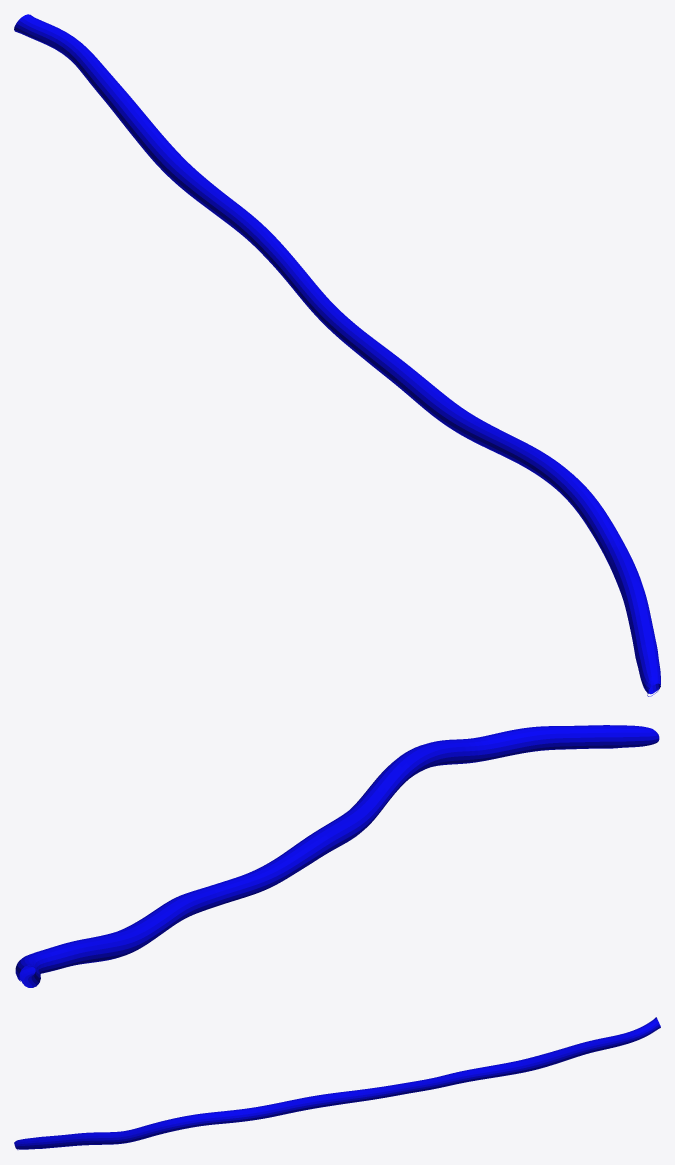
Rendered from frau2-704.glb.
3 views of the same model, one above another, from view 1: azimuth 30°, elevation 25°; view 2: azimuth 150°, elevation 25°; view 3: azimuth 270°, elevation 25° (orthographic). The views are drawn at different scales.
Parts seen in each view (by area): view 1: VH_F_inferior_ophthalmic_vein_L; view 2: VH_F_inferior_ophthalmic_vein_L; view 3: VH_F_inferior_ophthalmic_vein_L.
Part boxes in pixels (x1,y1,x2,y2): VH_F_inferior_ophthalmic_vein_L: [14, 14, 660, 696]; VH_F_inferior_ophthalmic_vein_L: [15, 725, 659, 987]; VH_F_inferior_ophthalmic_vein_L: [14, 1017, 660, 1149].
Bounding box in the file's own units: 0.00448 × 0.00949 × 0.0436.
